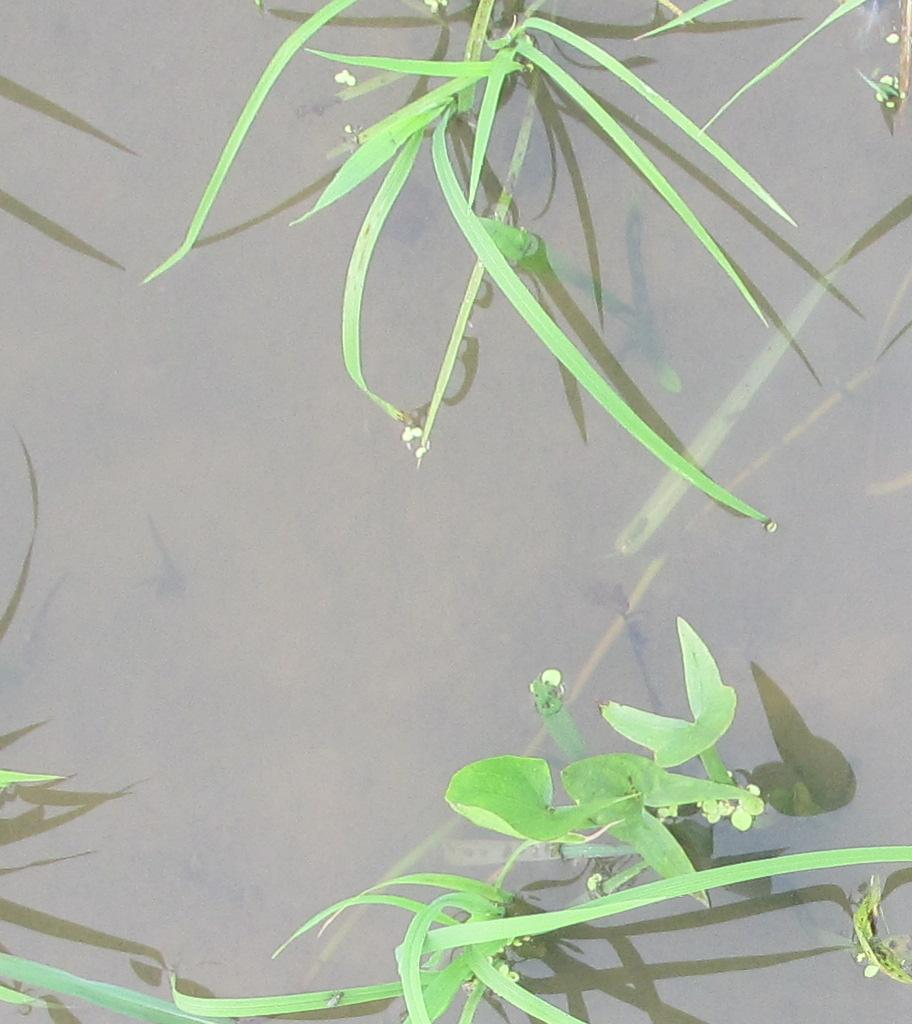Weed: (446, 647, 769, 882)
